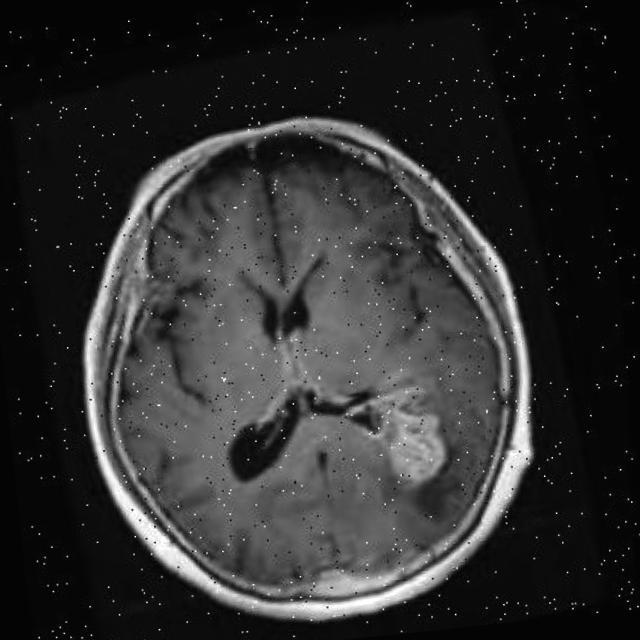LMCI: (340, 343, 484, 498)
